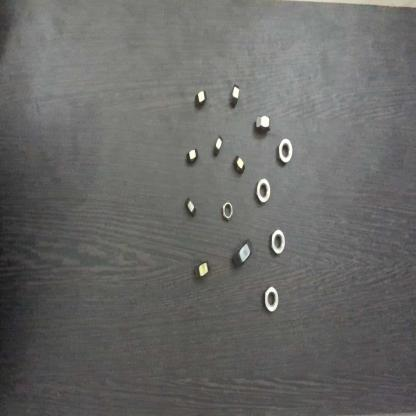NUTS: (231, 234, 254, 275), (191, 86, 213, 114), (274, 136, 296, 164), (266, 226, 286, 255), (227, 81, 245, 111), (263, 284, 280, 315), (252, 178, 272, 204), (192, 258, 212, 282), (254, 110, 272, 136), (210, 134, 226, 161), (233, 150, 247, 178), (221, 198, 235, 226), (184, 194, 197, 222), (185, 144, 200, 168)
